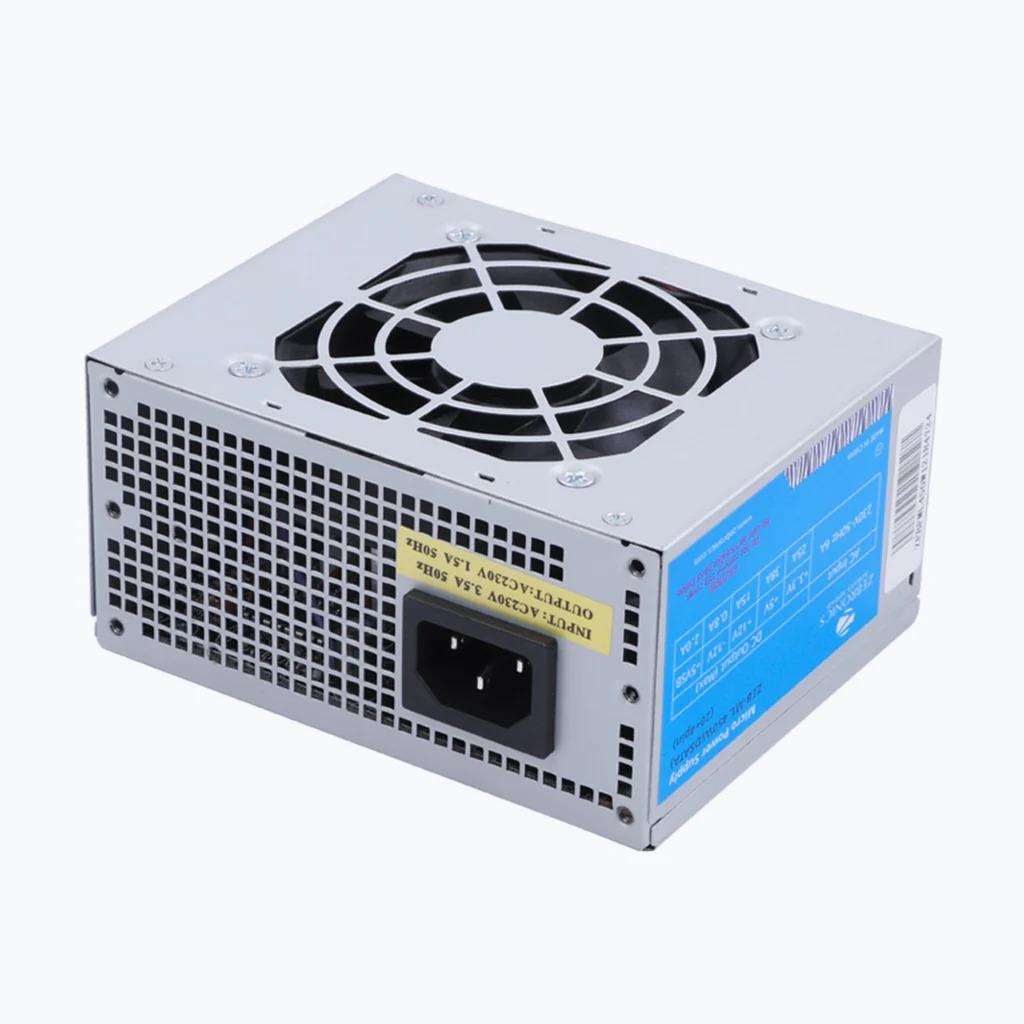IEC-Power: (413, 617, 535, 731)
